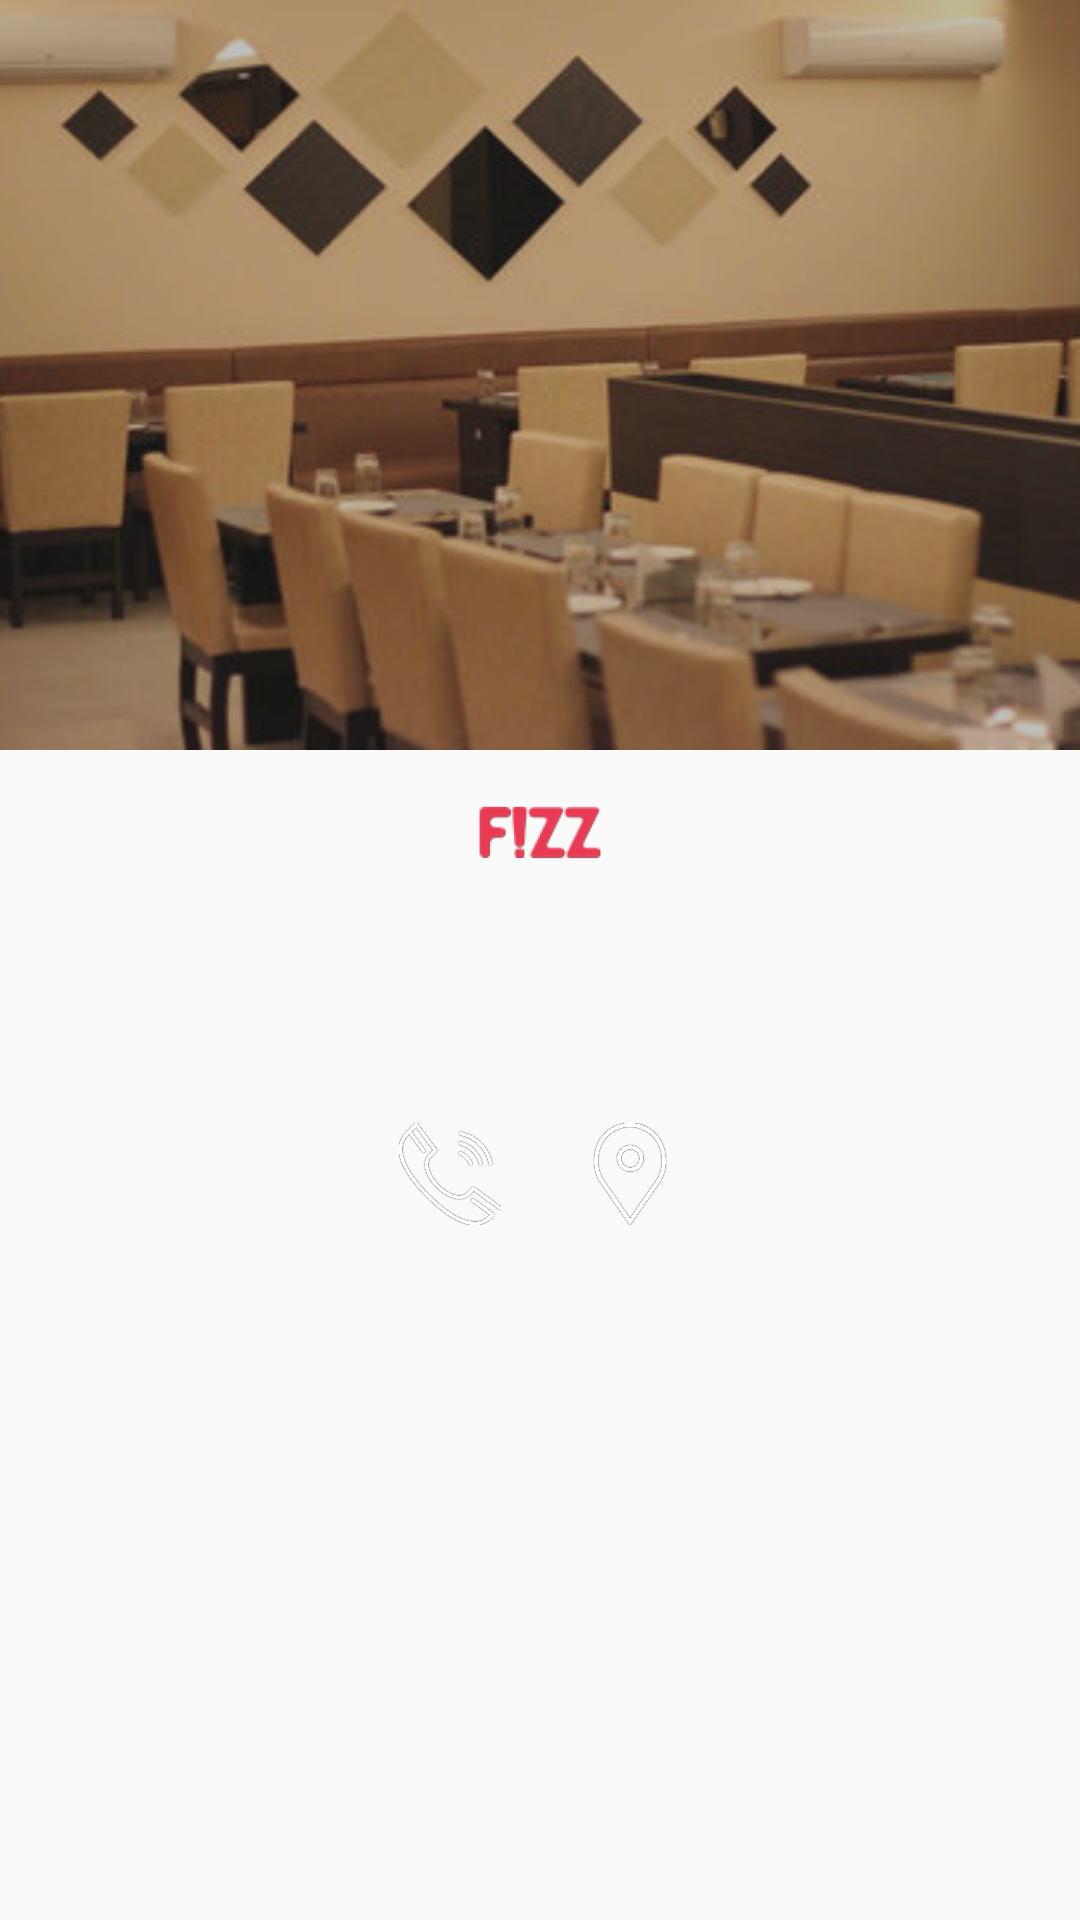

Point at icon controls on the screen. Image size 1080*1920, points as (x=x, y=y).
location: (x=630, y=1174)
phone: (x=450, y=1174)
